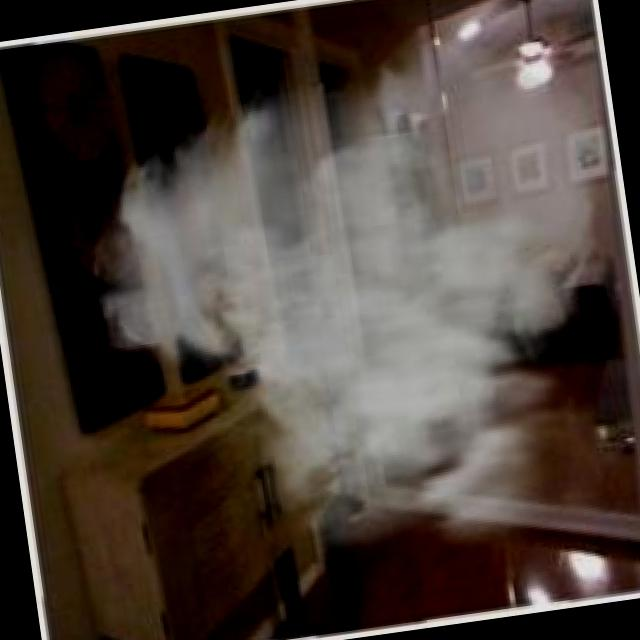smoke: (205, 72, 618, 473)
